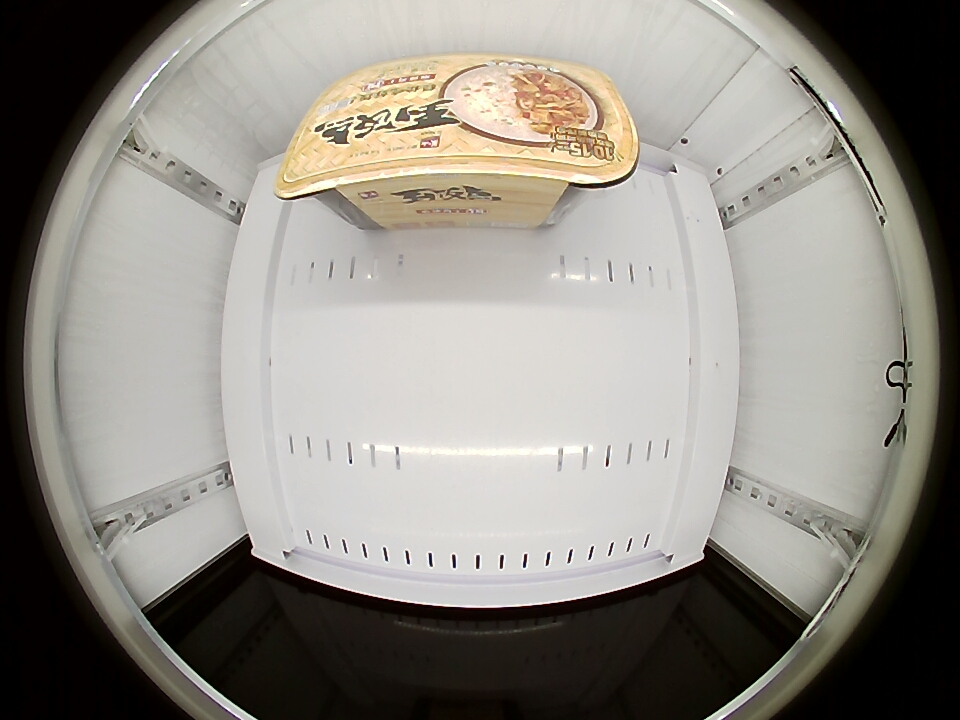daofandian4: (277, 54, 639, 230)
